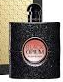ysl_black_opium: (7, 2, 61, 80)
